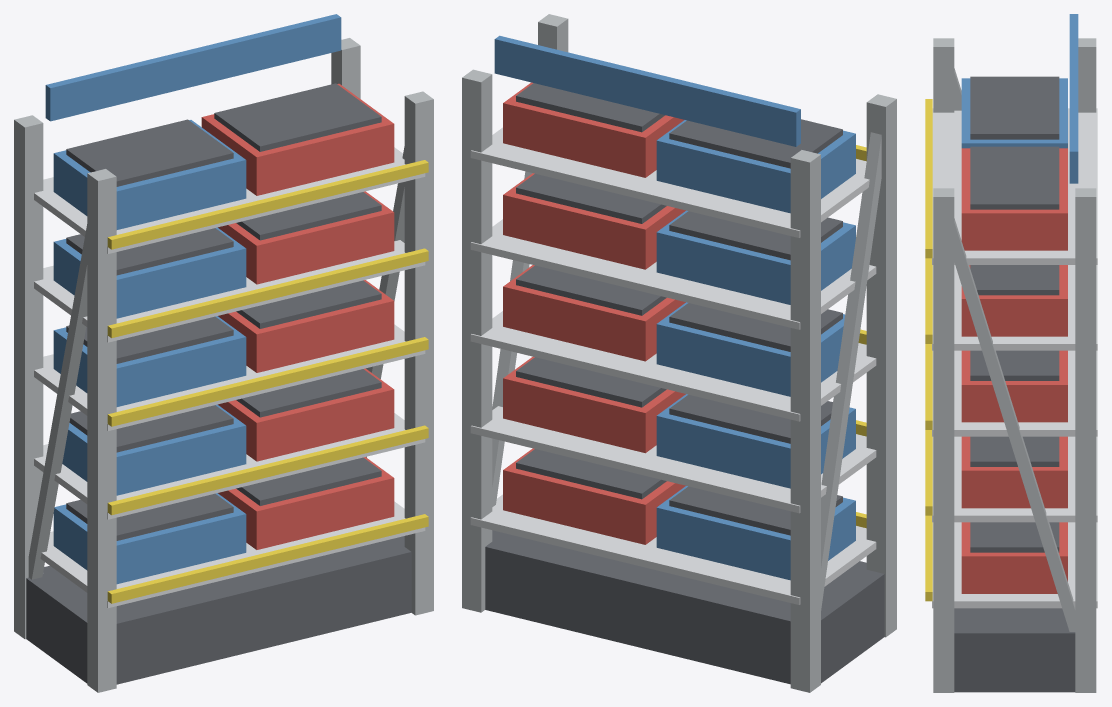
File: sort-tray-rack.glb
The picture shows the model from 3 angles, left to right: view 1: azimuth 30°, elevation 25°; view 2: azimuth 150°, elevation 25°; view 3: azimuth 270°, elevation 25°; orthographic projection. The views are drawn at different scales.
Parts seen in each view (by area): view 1: parcel-depot-and-sorting-hall-sort-tray-rack; view 2: parcel-depot-and-sorting-hall-sort-tray-rack; view 3: parcel-depot-and-sorting-hall-sort-tray-rack.
Part boxes in pixels (box(x1,y1,x2,y2)): parcel-depot-and-sorting-hall-sort-tray-rack: box(14, 14, 433, 692); parcel-depot-and-sorting-hall-sort-tray-rack: box(462, 14, 896, 692); parcel-depot-and-sorting-hall-sort-tray-rack: box(925, 14, 1097, 692).
Bounding box in the file's own units: 1.27 × 1.98 × 0.5825.
